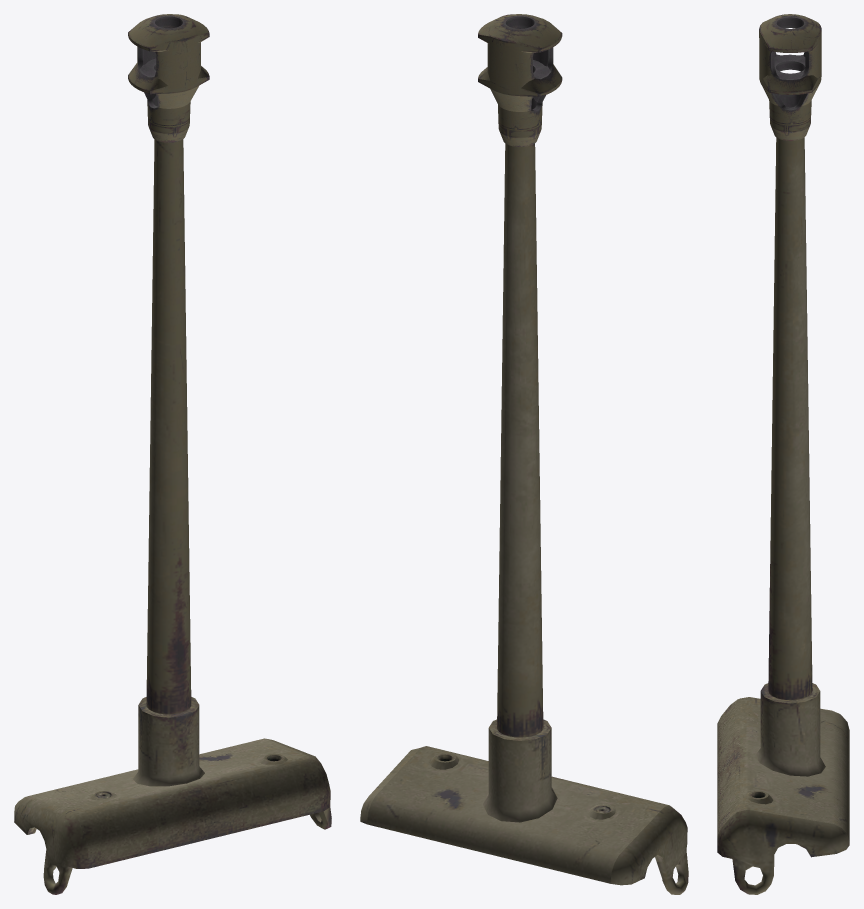
Rendered from Gun_06.glb.
3 renders of one model, left to right at view 1: azimuth 30°, elevation 25°; view 2: azimuth 150°, elevation 25°; view 3: azimuth 270°, elevation 25°, orthographic. The views are drawn at different scales.
Visible parts, largest first — view 1: set_0_group_0; view 2: set_0_group_0; view 3: set_0_group_0.
Part boxes in pixels (x1,y1,x2,y2): set_0_group_0: (14, 14, 331, 894); set_0_group_0: (360, 14, 688, 894); set_0_group_0: (717, 14, 849, 894).
Size of the model in its own units: 1.23 by 3.47 by 0.5169.
Materials: 1 (1 with a texture image).
